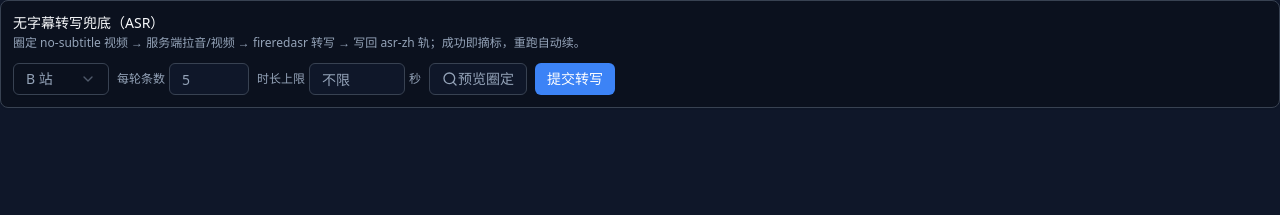
Test case: 预览圈定：POST body 强制 dry_run:true，列表渲染 vid/标题/时长（null 时长出 ?）
Click the button "预览圈定" at (478, 79), box [429, 63, 527, 95]
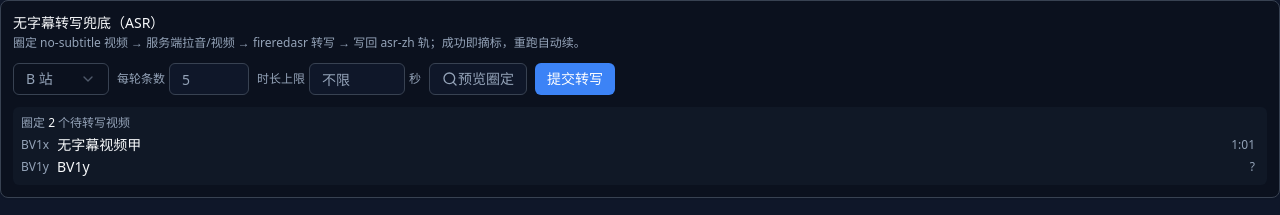
Expected: the text "无字幕视频甲" is shown, [57, 135, 141, 154]
Expected: the text "BV1x" is shown, [21, 137, 49, 153]
Expected: the text "1:01" is shown, [1231, 137, 1255, 153]
